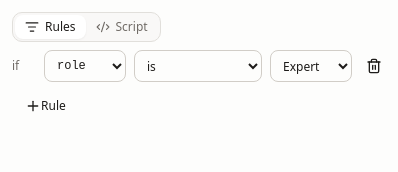
Test: the rules of a condition › an operator without values drops them
Select "is answered" in the 2nd dropdown at (198, 66), box x1=134 y1=50 x2=262 y2=82
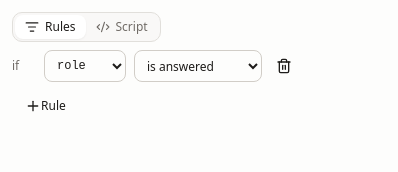
Check: the number of dropdowns is 2, box x1=44 y1=50 x2=126 y2=82; x1=134 y1=50 x2=262 y2=82
